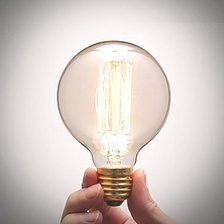light_bulb: (51, 34, 176, 209)
